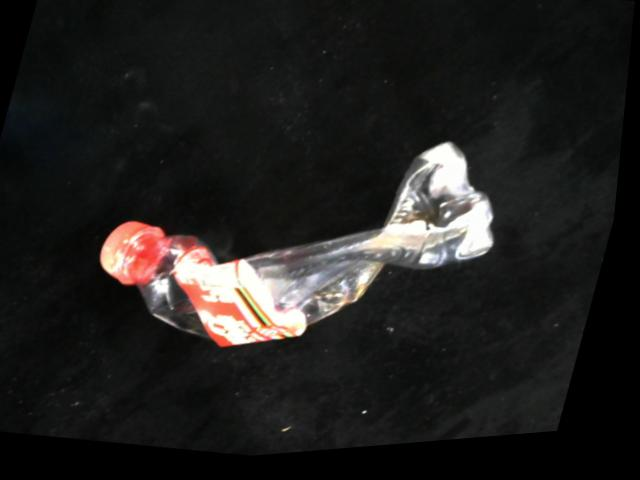bottle: (103, 138, 511, 356)
